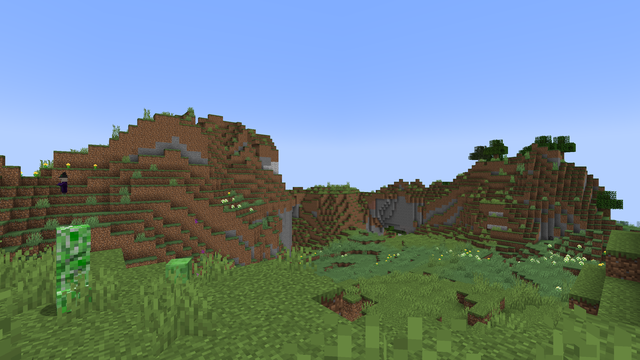creepers: (50, 220, 92, 314)
slimes: (166, 256, 192, 285)
sorcieres: (59, 177, 67, 194)
